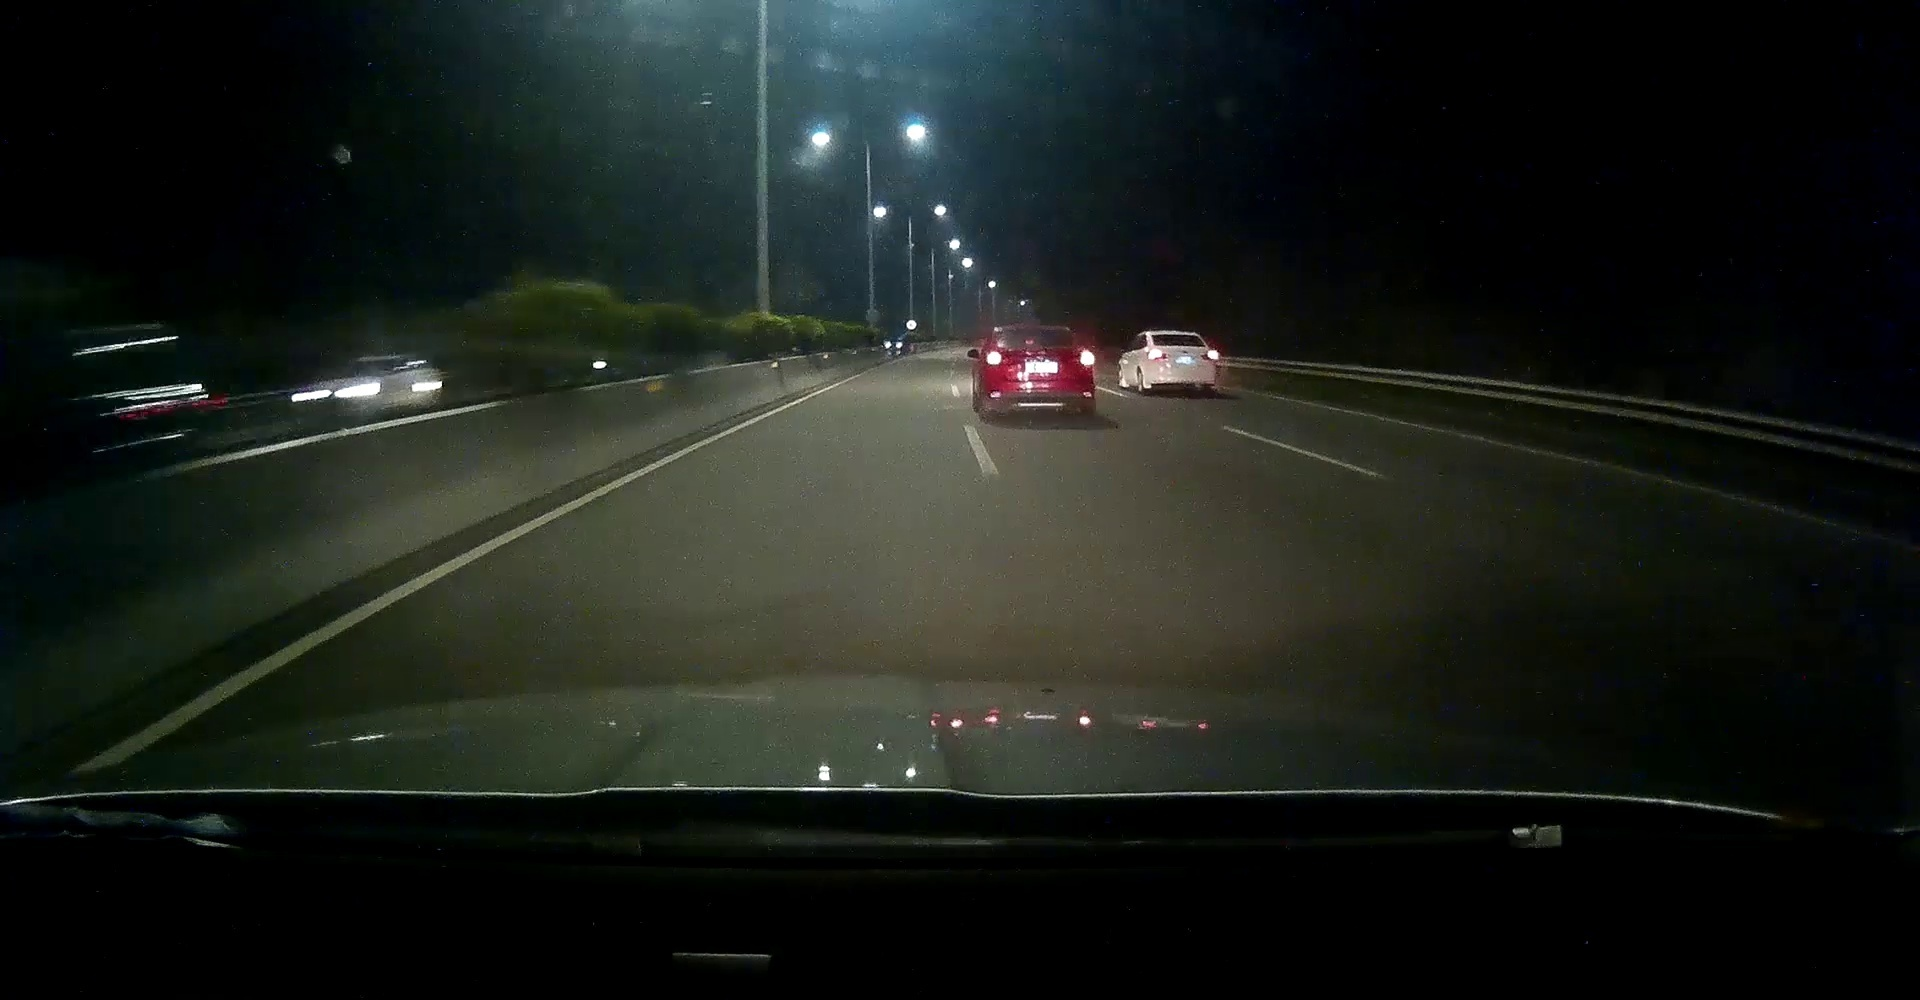L_light: (1147, 349, 1168, 360), (985, 352, 1002, 365)
R_light: (1079, 349, 1095, 365), (1203, 349, 1217, 360)
T_light: (1023, 330, 1043, 332), (1171, 334, 1183, 338)
night-no: (983, 324, 1096, 418), (1145, 331, 1218, 395)
